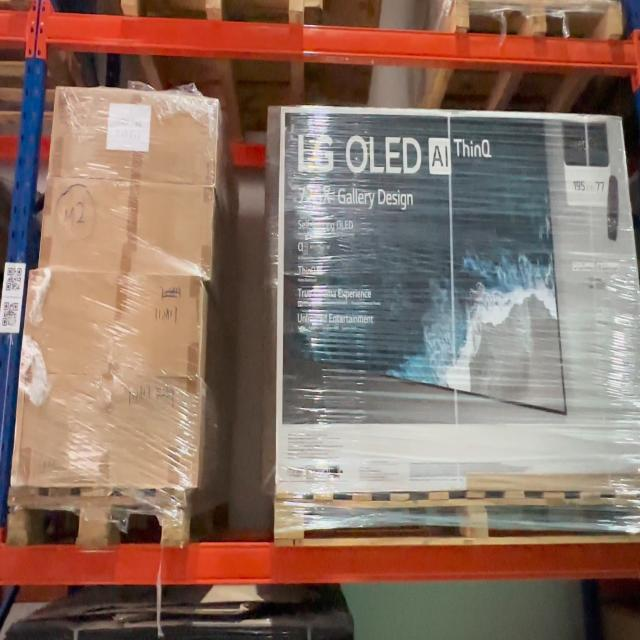box: (22, 372, 194, 480), (28, 272, 195, 370), (57, 96, 217, 176), (47, 186, 213, 257), (10, 502, 187, 545)
